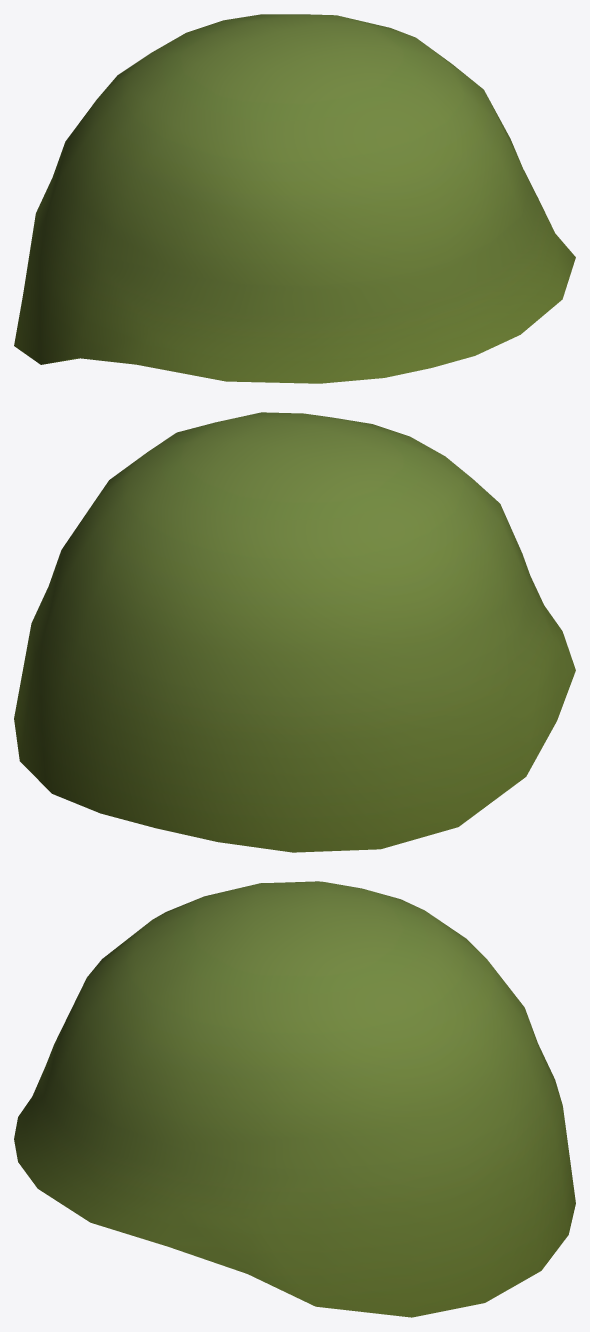
The model's file is ppsh_Hat.fbx.
The picture shows the model from 3 angles, top to bottom: view 1: azimuth 30°, elevation 25°; view 2: azimuth 150°, elevation 25°; view 3: azimuth 270°, elevation 25°; orthographic projection.
Visible parts, largest first — view 1: Stickman_heads_sphere.003; view 2: Stickman_heads_sphere.003; view 3: Stickman_heads_sphere.003.
Boxes of the visible parts, left/top/right/bottom form: Stickman_heads_sphere.003: left=14, top=14, right=575, bottom=383; Stickman_heads_sphere.003: left=14, top=412, right=575, bottom=852; Stickman_heads_sphere.003: left=14, top=881, right=575, bottom=1317.
Bounding box in the file's own units: 0.6725 × 0.3949 × 0.6633.
1 material, 1 textured.
